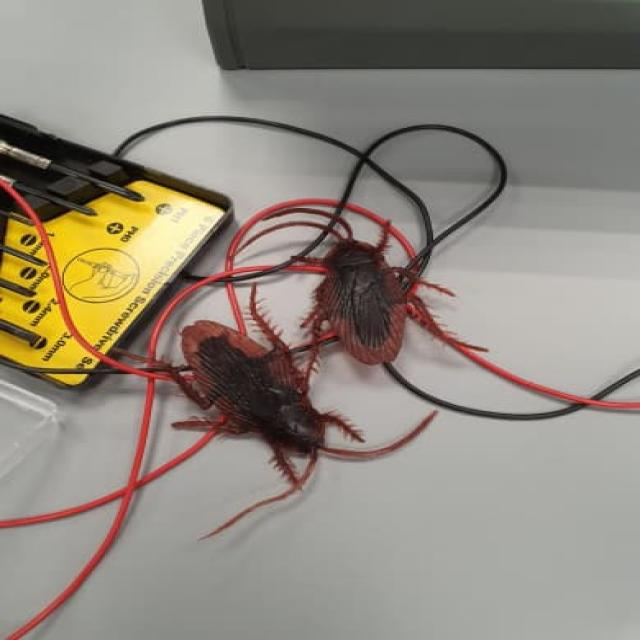Cockroach: (112, 282, 443, 549), (246, 208, 481, 364)
